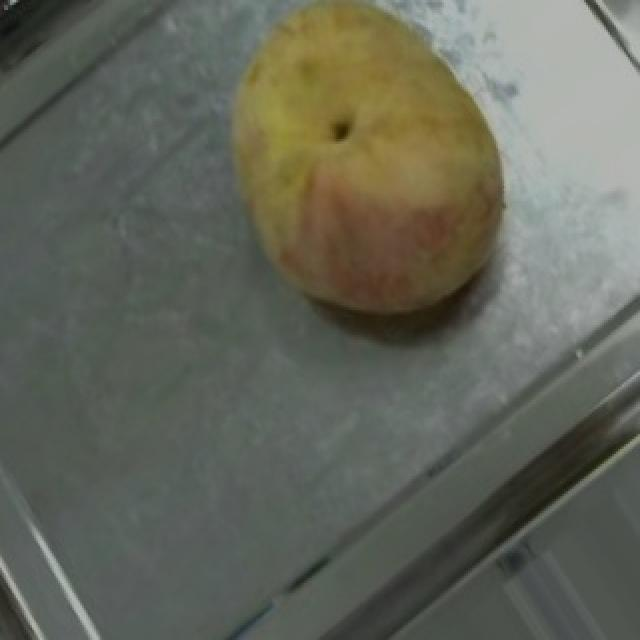Fruit: (178, 0, 500, 360)
